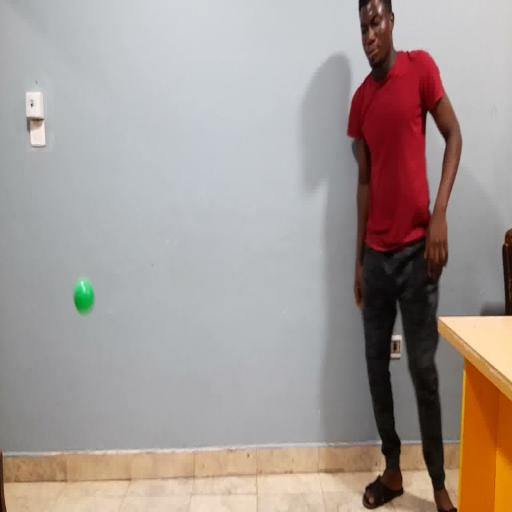plastic-ball: (74, 279, 94, 315)
